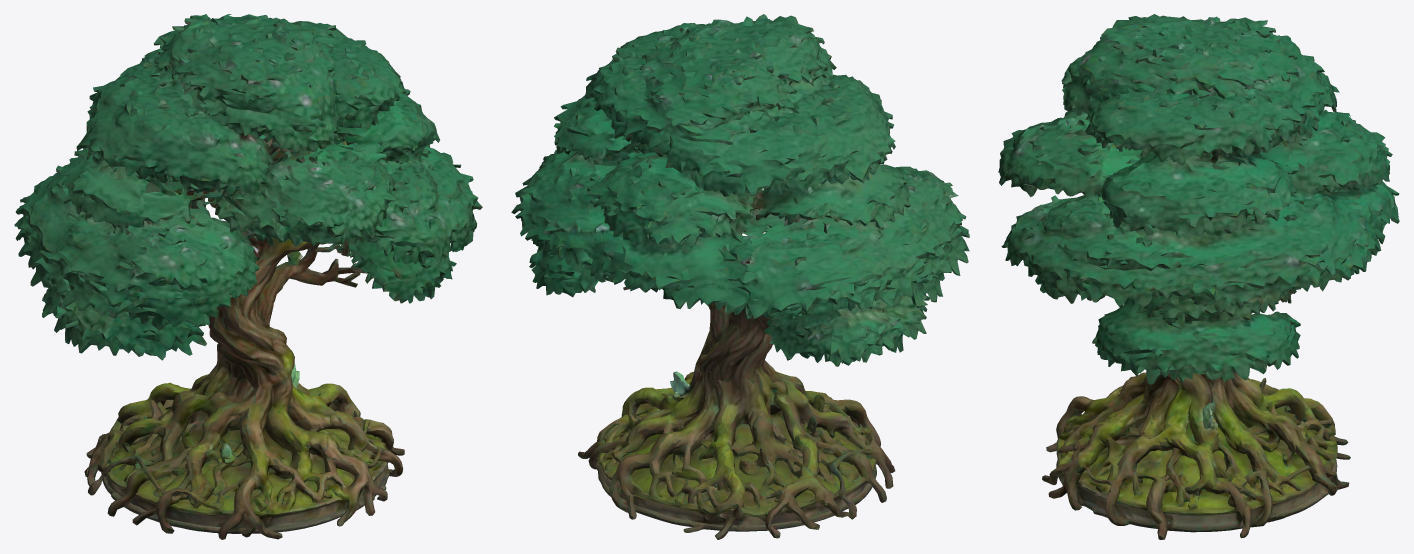
Rendered from moon-ancient-tree.glb.
3 views of the same model, side by side, from view 1: azimuth 30°, elevation 25°; view 2: azimuth 150°, elevation 25°; view 3: azimuth 270°, elevation 25° (orthographic).
Parts seen in each view (by area): view 1: world; view 2: world; view 3: world.
Boxes of the visible parts, x1,y1,x2,y2 form: world: (14, 14, 482, 539); world: (511, 14, 969, 539); world: (998, 14, 1399, 539).
Bounding box in the file's own units: 0.5888 × 0.62 × 0.5102.
1 material, 1 textured.
